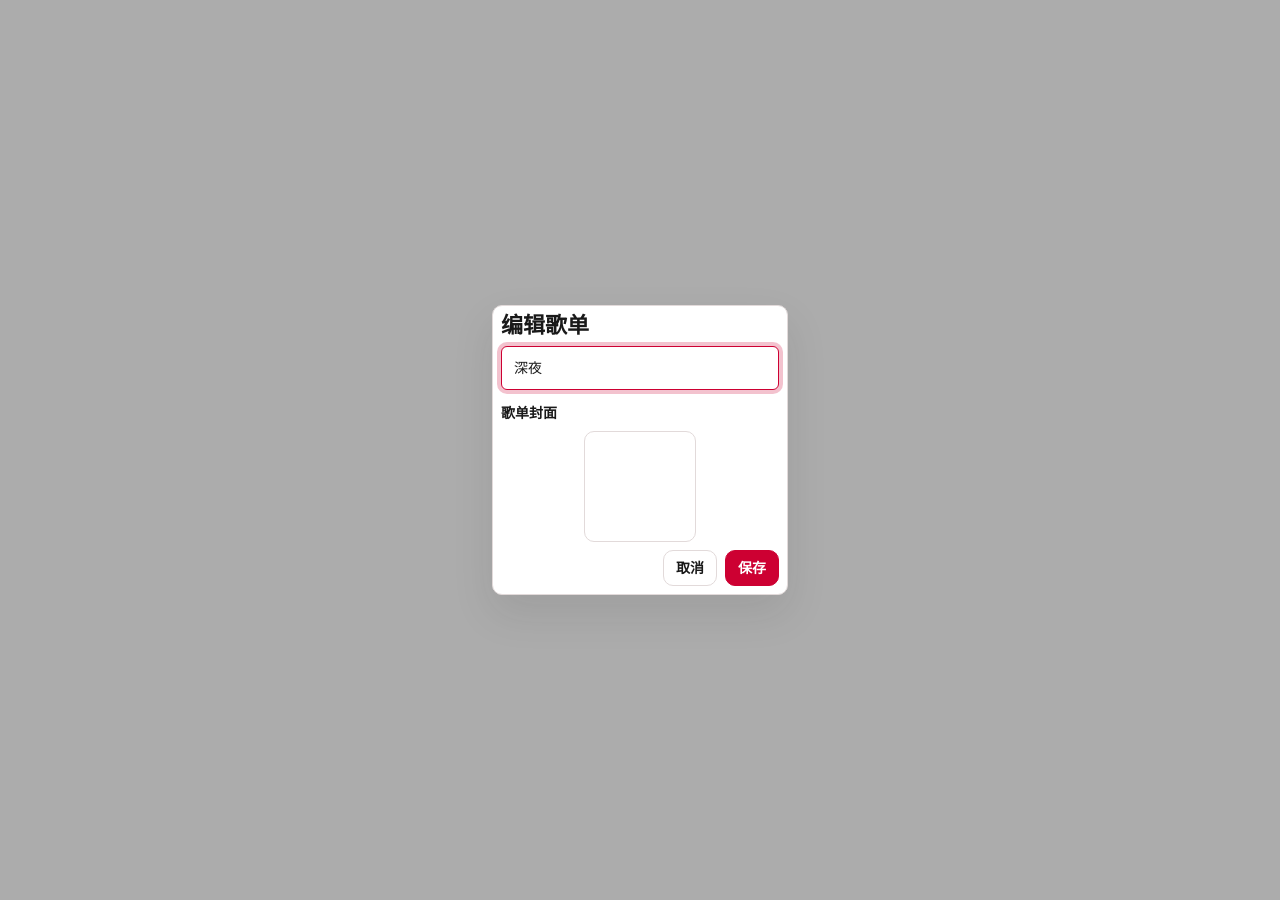
Test: PlaylistNameDialog (task 10.9) › says the saved rename is still in the library when its retry fails
Replace the text in the field named "歌单新名称" with "凌晨". click: (640, 368)
box: [501,346,779,390]
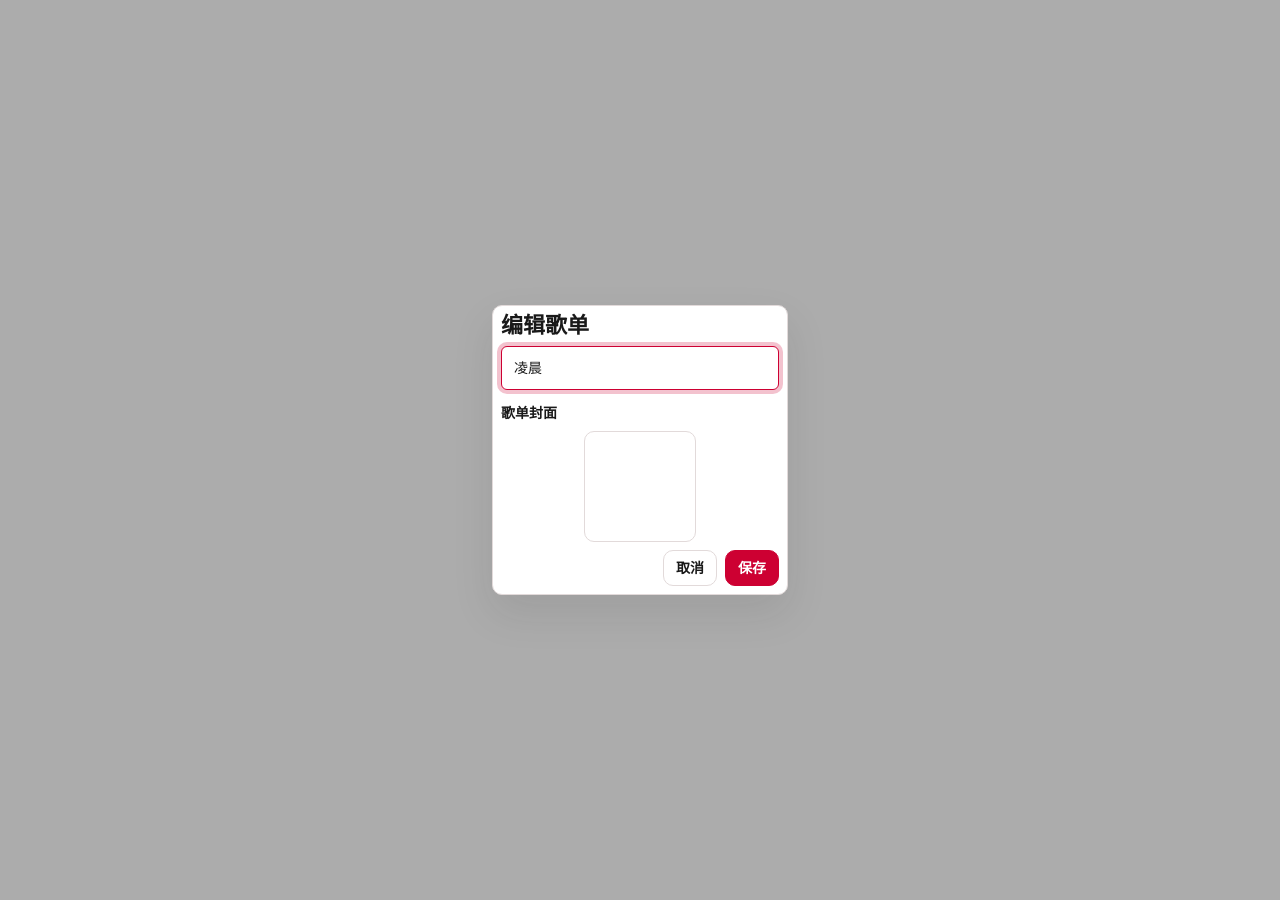
Click the button "保存". click: (752, 568)
box: [725,550,779,586]
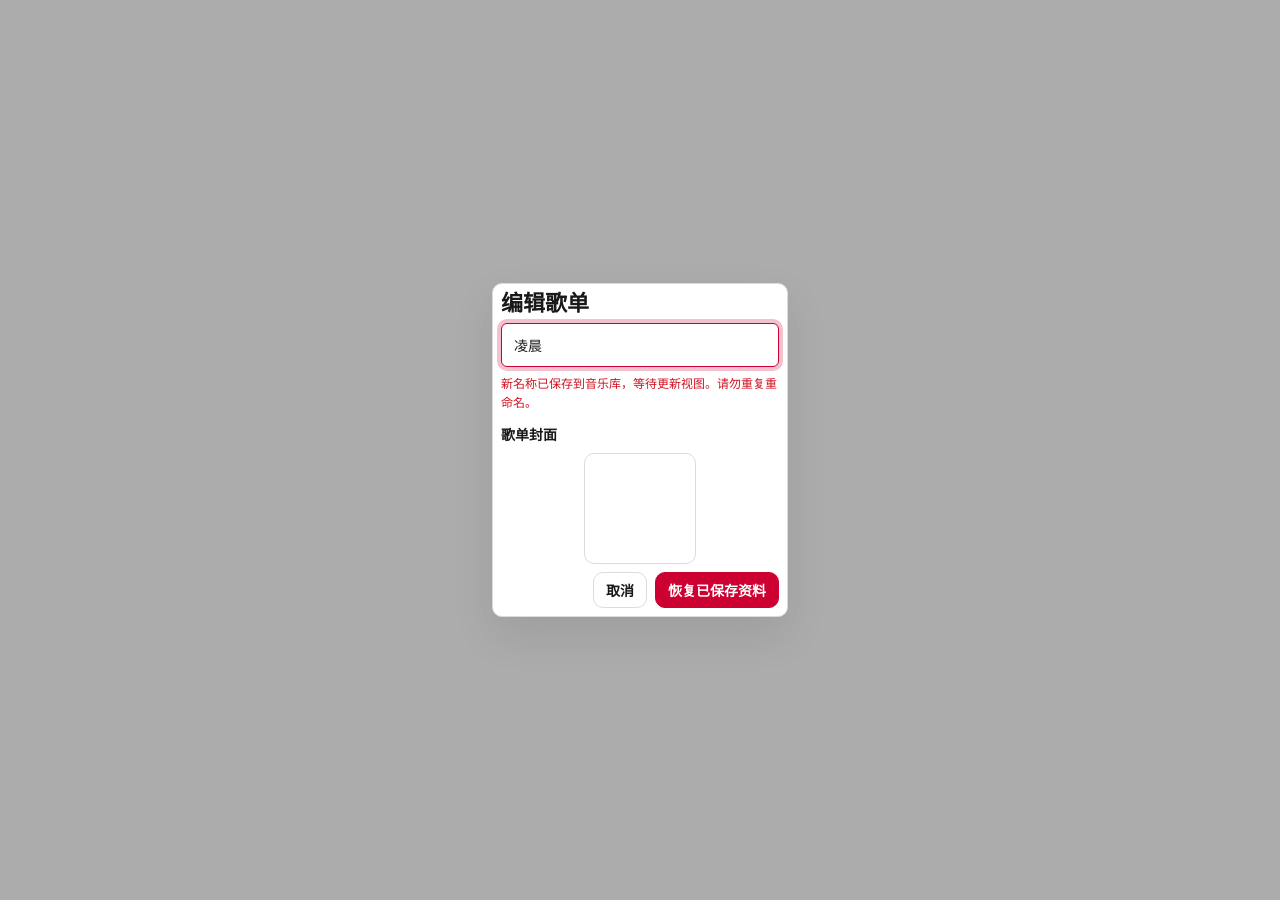
Expected: the text "新名称已保存到音乐库，等待更新视图。请勿重复重命名。" is shown, [501,375,779,412]
Click the button "恢复已保存资料". click: (717, 590)
box: [655,572,779,608]
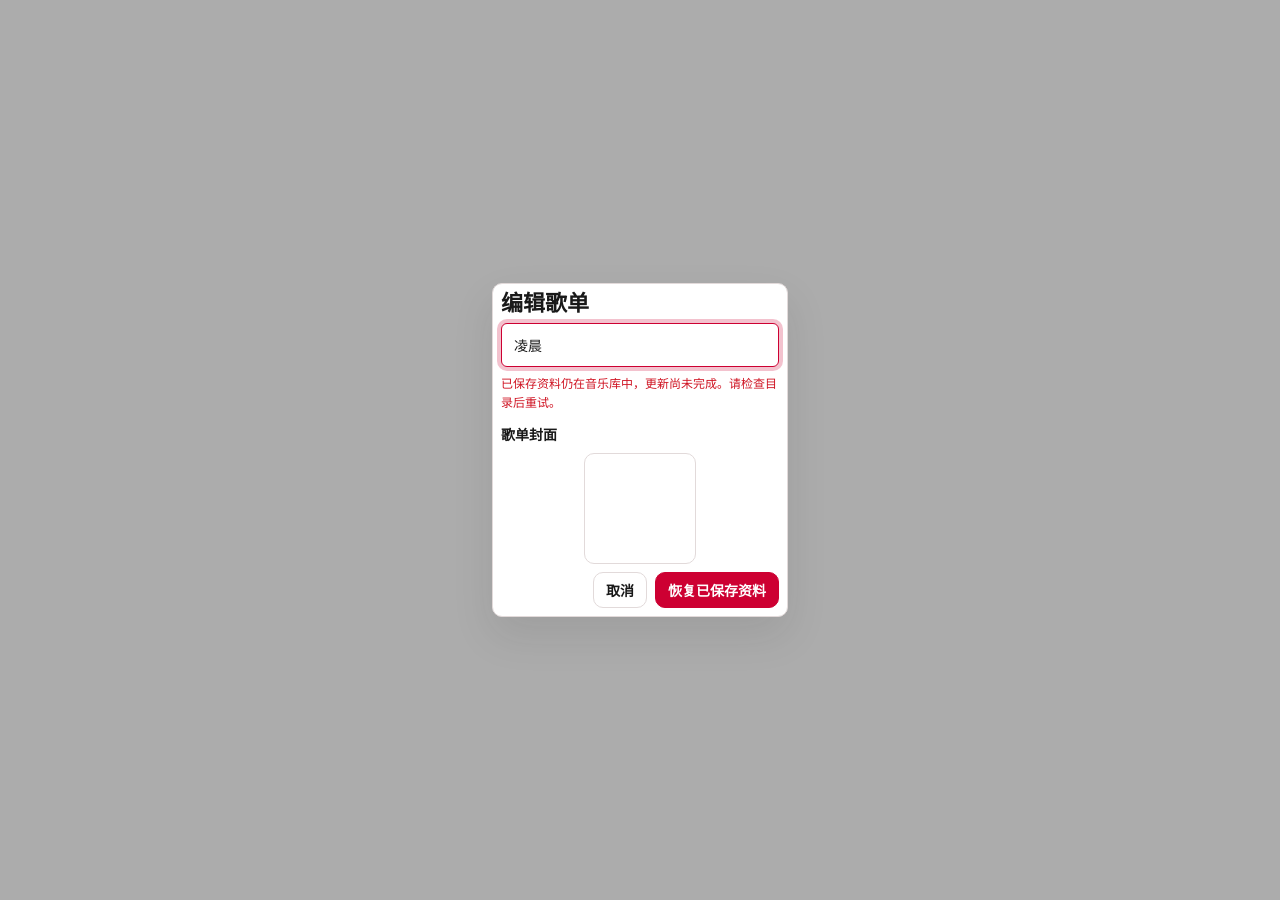
Expected: the text "已保存资料仍在音乐库中，更新尚未完成。请检查目录后重试。" is shown, [501,375,779,412]
